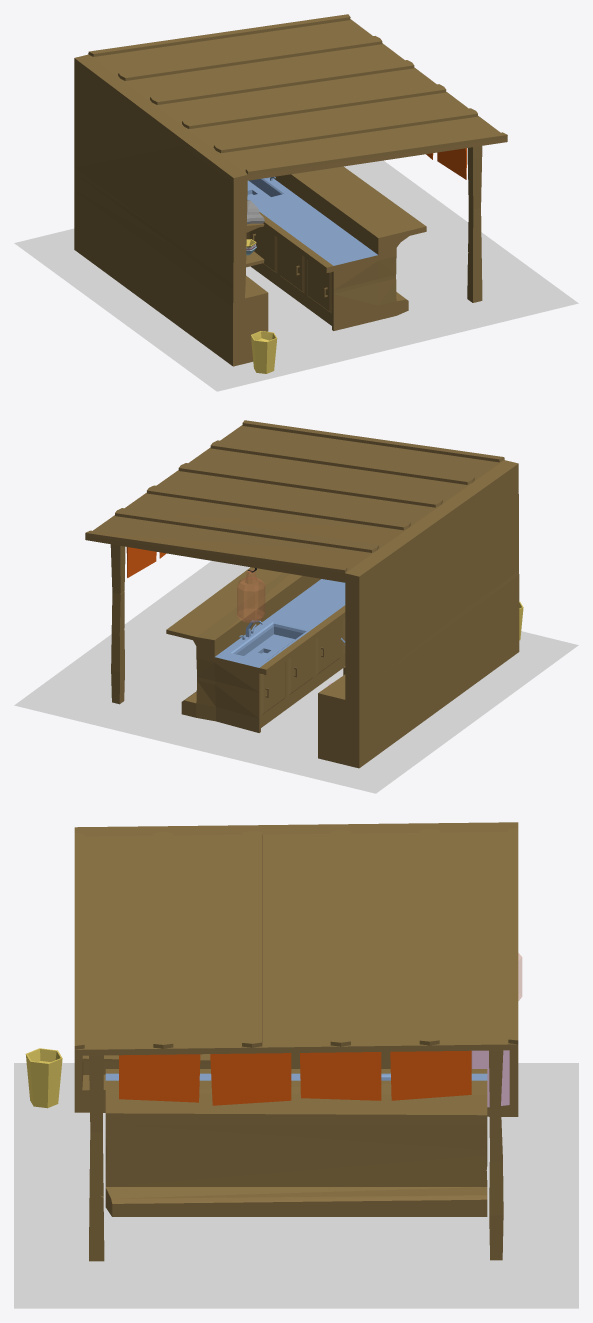
The model's file is RamenShop.dae.
3 renders of one model, top to bottom at view 1: azimuth 30°, elevation 25°; view 2: azimuth 150°, elevation 25°; view 3: azimuth 270°, elevation 25°, orthographic. The views are drawn at different scales.
Parts seen in each view (by area): view 1: RamenShop, Plane, RamenBar, CounterTop, Support Pillar.001, TrashCan.001, ClothSign; view 2: RamenShop, Plane, RamenBar, CounterTop, Support Pillar, RamenShopLantern, ClothSign; view 3: RamenShop, Plane, RamenBar, ClothSign, Support Pillar.001, Support Pillar, TrashCan.001, FridgeDoor.
Part boxes in pixels (box(x1,y1,x2,y2)): RamenShop: box(74, 14, 507, 366); Plane: box(14, 160, 578, 391); RamenBar: box(246, 166, 426, 330); CounterTop: box(247, 176, 377, 265); Support Pillar.001: box(467, 146, 482, 302); TrashCan.001: box(251, 331, 277, 373); ClothSign: box(426, 148, 466, 179); RamenShop: box(85, 420, 519, 768); Plane: box(14, 561, 578, 793); RamenBar: box(166, 567, 345, 732); CounterTop: box(215, 579, 345, 667); Support Pillar: box(110, 544, 125, 704); RamenShopLantern: box(237, 569, 264, 622); ClothSign: box(126, 547, 166, 577); RamenShop: box(74, 822, 518, 1116); Plane: box(14, 1063, 578, 1308); RamenBar: box(105, 1069, 487, 1216); ClothSign: box(119, 1050, 471, 1105); Support Pillar.001: box(89, 1055, 104, 1261); Support Pillar: box(489, 1050, 503, 1260); TrashCan.001: box(25, 1048, 62, 1108); FridgeDoor: box(471, 1050, 509, 1107).
Size of the model in its own units: 4.88 by 4.74 by 2.51.
